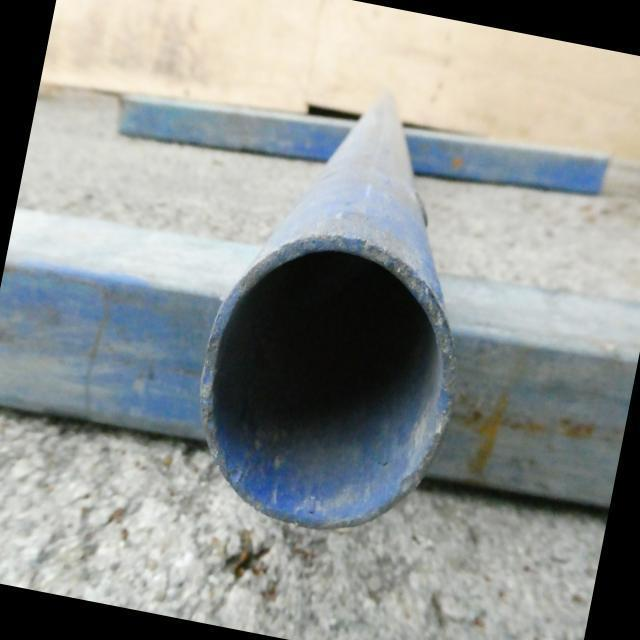pipe: (199, 245, 452, 532)
